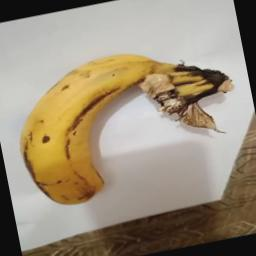Banana Unripe: (4, 30, 255, 214)
